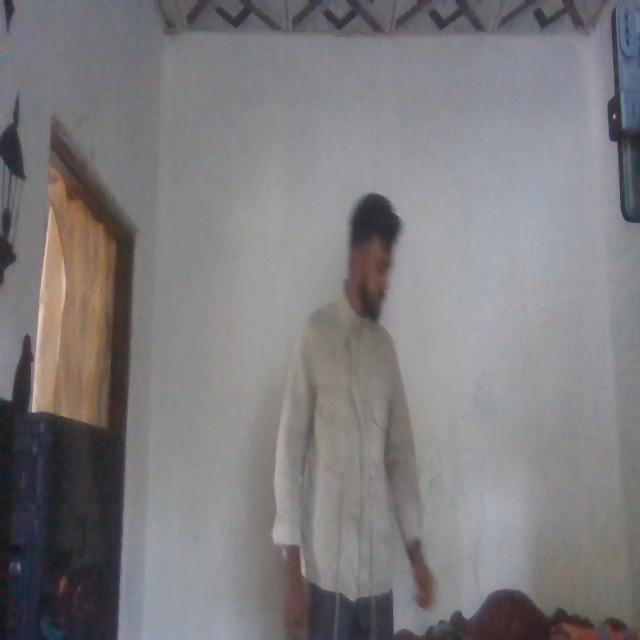Jacket_Wearer: (275, 300, 421, 600)
Person: (272, 178, 422, 640)
